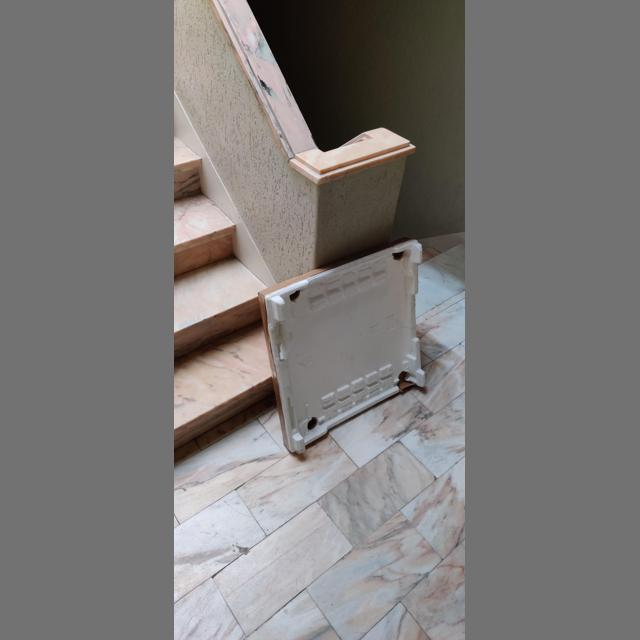litter: (264, 240, 426, 454), (258, 237, 412, 450), (398, 373, 414, 392)
